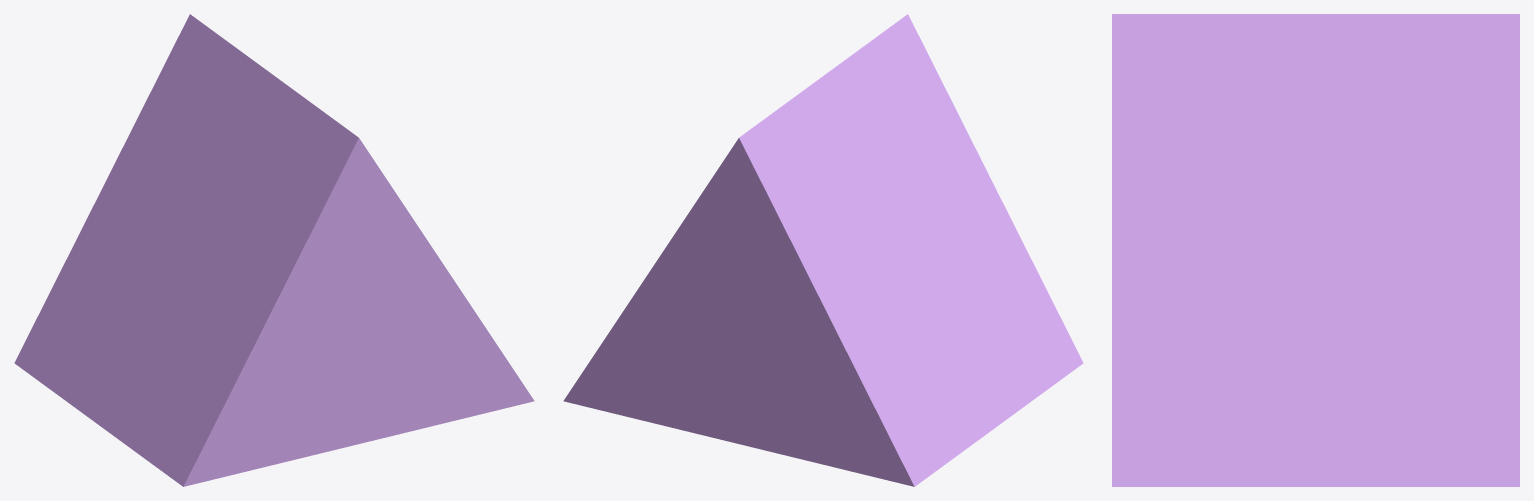
The model's file is prism.glb.
3 renders of one model, left to right at view 1: azimuth 30°, elevation 25°; view 2: azimuth 150°, elevation 25°; view 3: azimuth 270°, elevation 25°, orthographic. The views are drawn at different scales.
Bounding box in the file's own units: 1.2 × 1 × 1.
